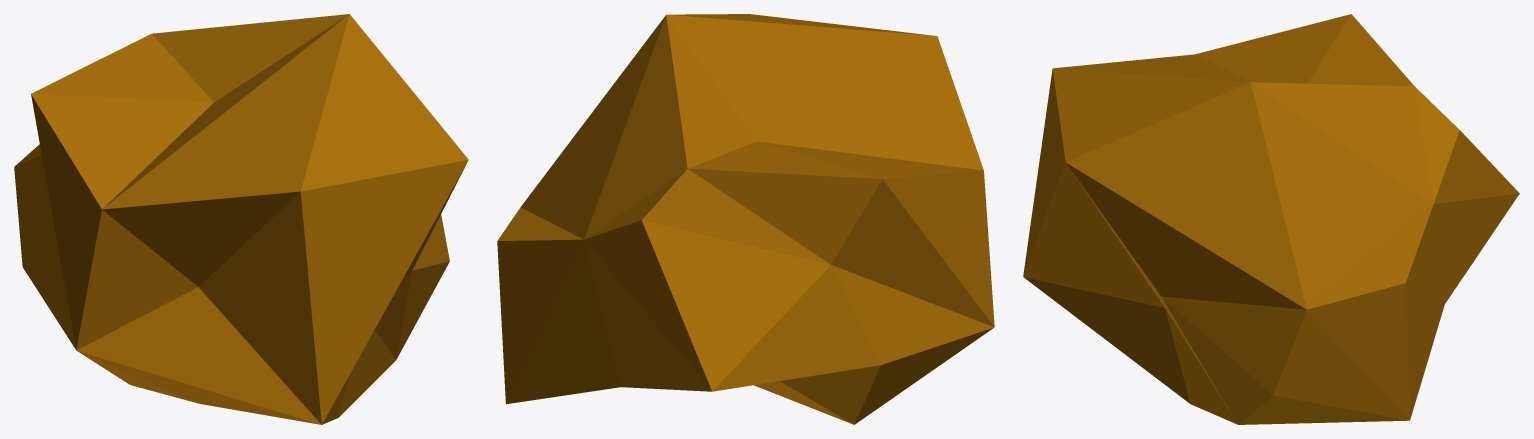
The model's file is gold1.fbx.
3 views of the same model, side by side, from view 1: azimuth 30°, elevation 25°; view 2: azimuth 150°, elevation 25°; view 3: azimuth 270°, elevation 25° (orthographic). The views are drawn at different scales.
Visible parts, largest first — view 1: Cube.001; view 2: Cube.001; view 3: Cube.001.
Boxes of the visible parts, x1=… form: Cube.001: x1=14, y1=14, x2=468, y2=424; Cube.001: x1=497, y1=14, x2=994, y2=424; Cube.001: x1=1023, y1=14, x2=1519, y2=424.
Size of the model in its own units: 15.27 by 13.19 by 17.37.
